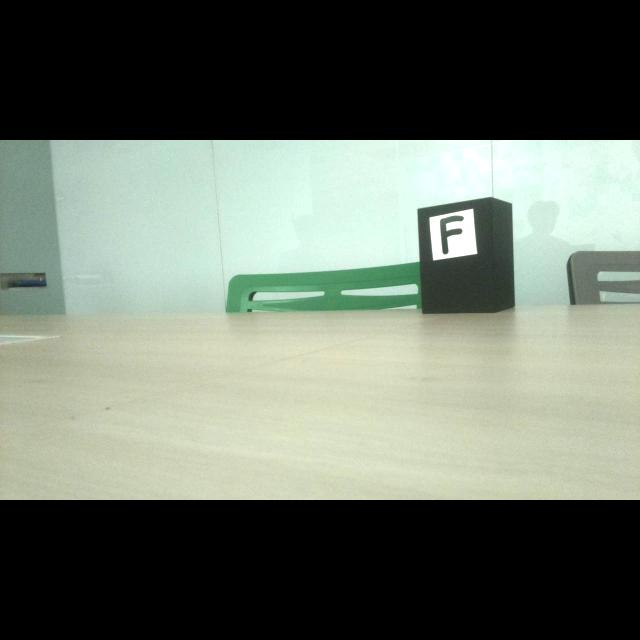F: (441, 216, 463, 254)
